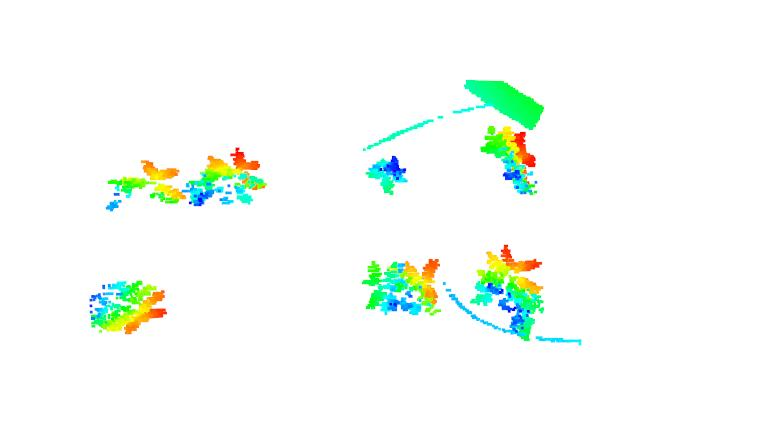chickpea: (475, 245, 546, 345), (189, 144, 271, 211), (366, 254, 443, 320), (86, 279, 167, 337), (481, 121, 543, 196), (102, 160, 188, 207), (364, 152, 414, 196)
